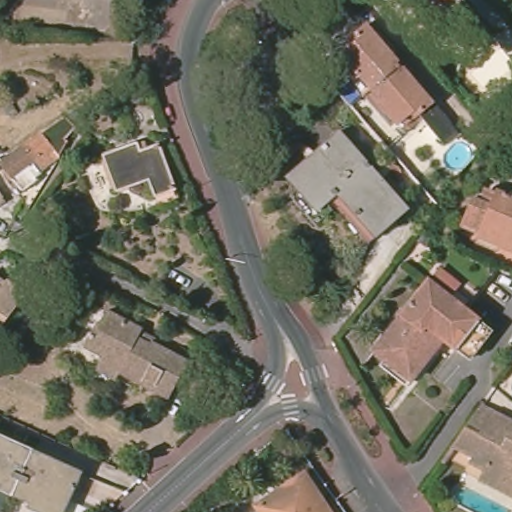pool: (448, 484, 508, 512), (442, 140, 473, 173), (341, 82, 364, 105)
